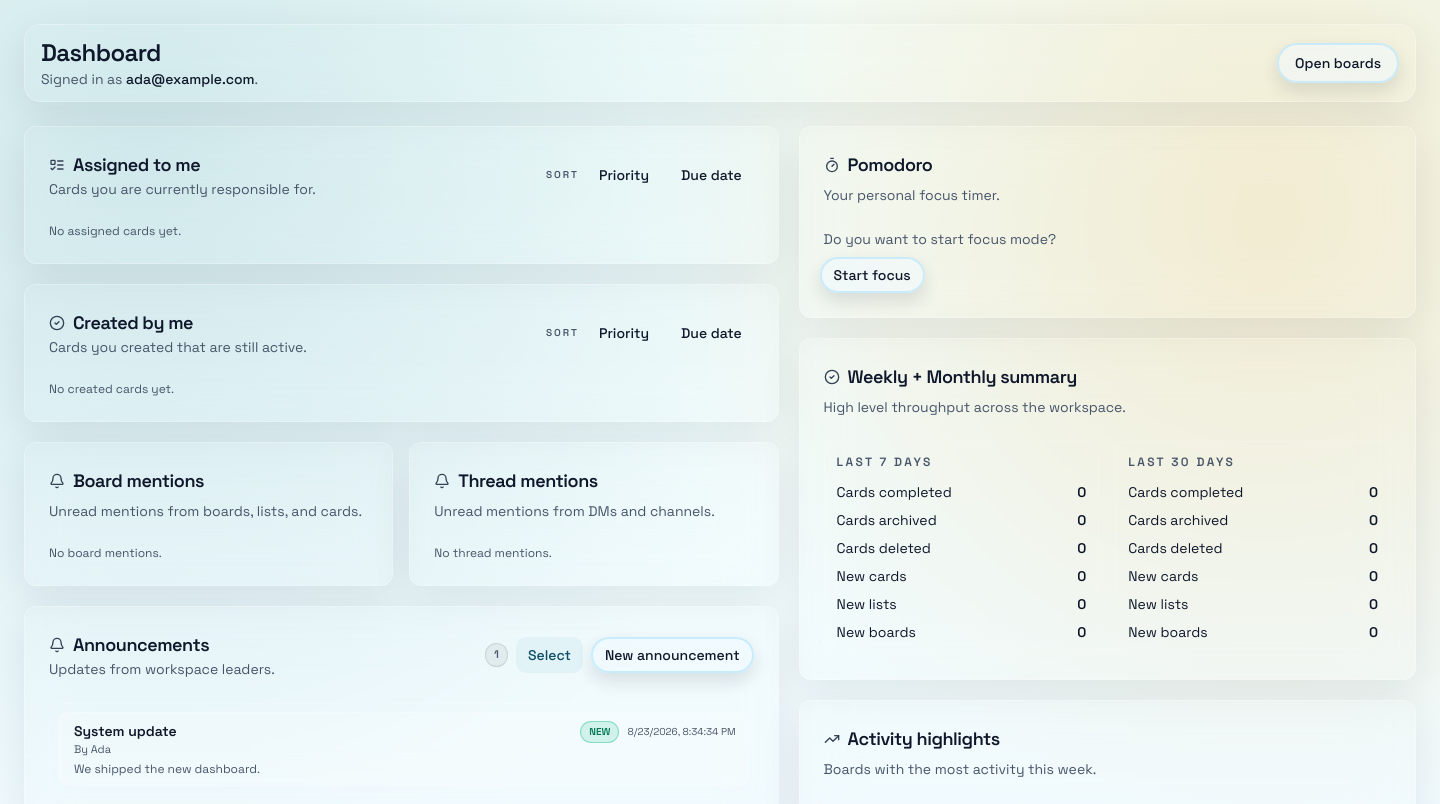
Test: HomePage › shows announcements and marks them seen on open
Click the text "System update": click(125, 731) [74,721,176,741]
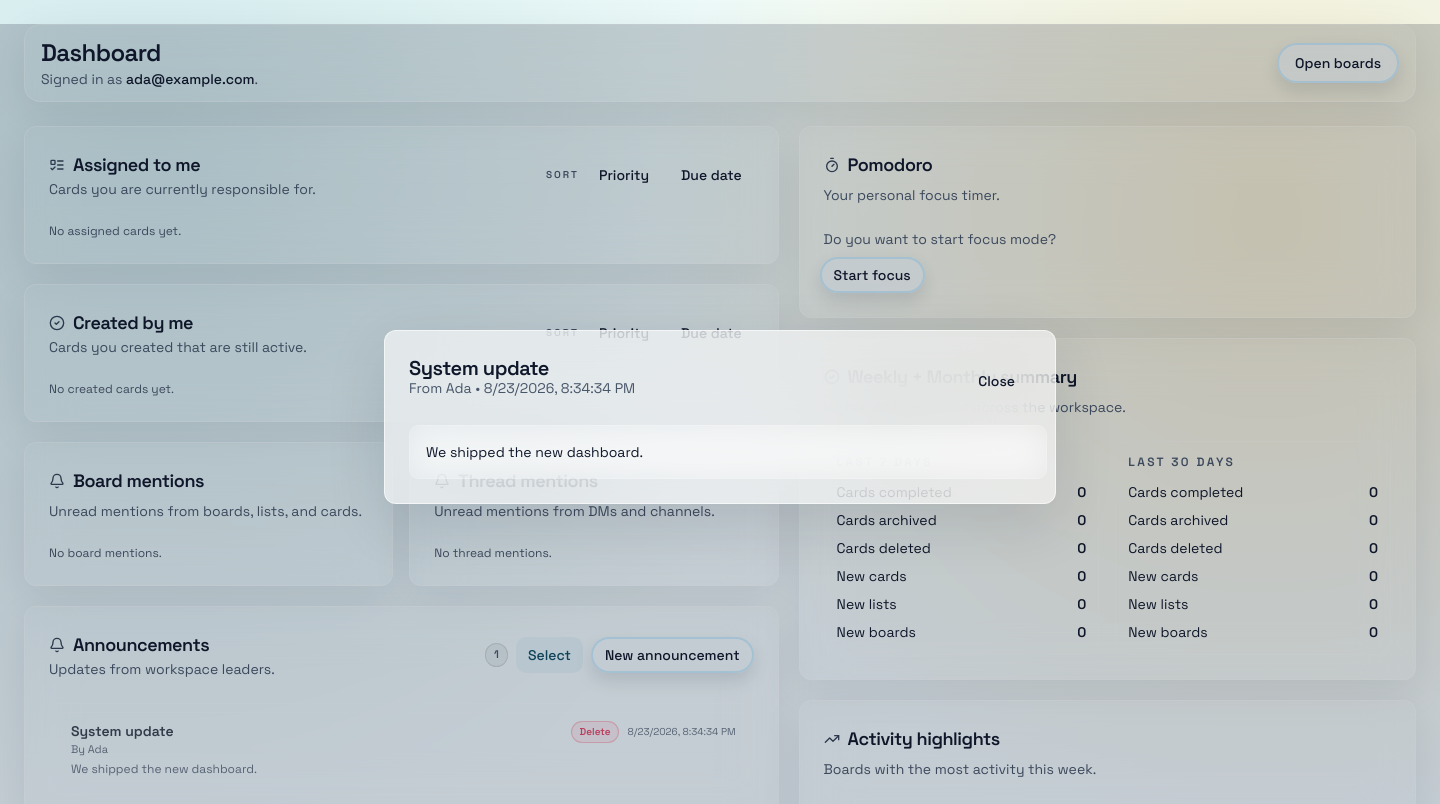
Expected: the text "From Ada • 8/23/2026, 8:34:34 PM" is shown, [409,378,635,398]
